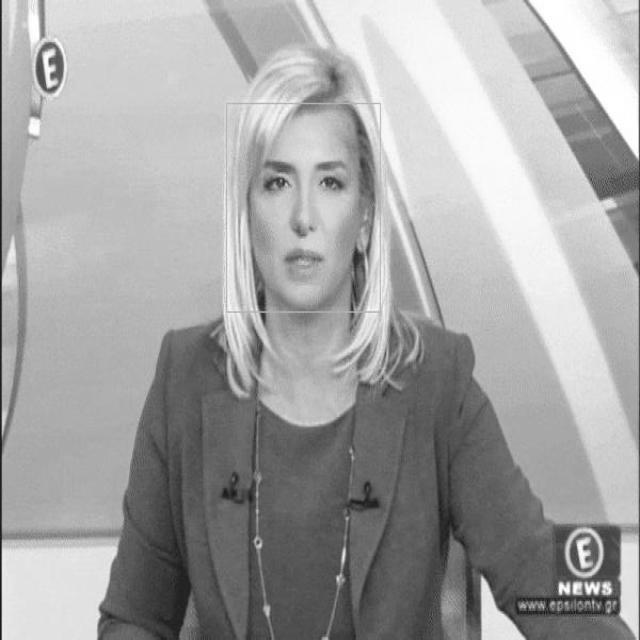fake: (226, 103, 380, 313)
